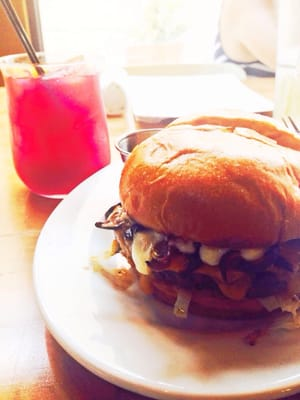pizza: (0, 51, 112, 199), (273, 0, 300, 136)
soup: (96, 118, 300, 327)
